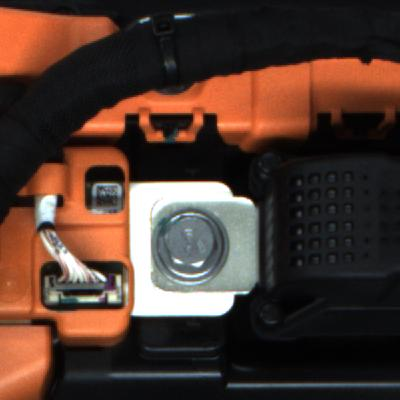nut_b: (150, 204, 231, 288)
